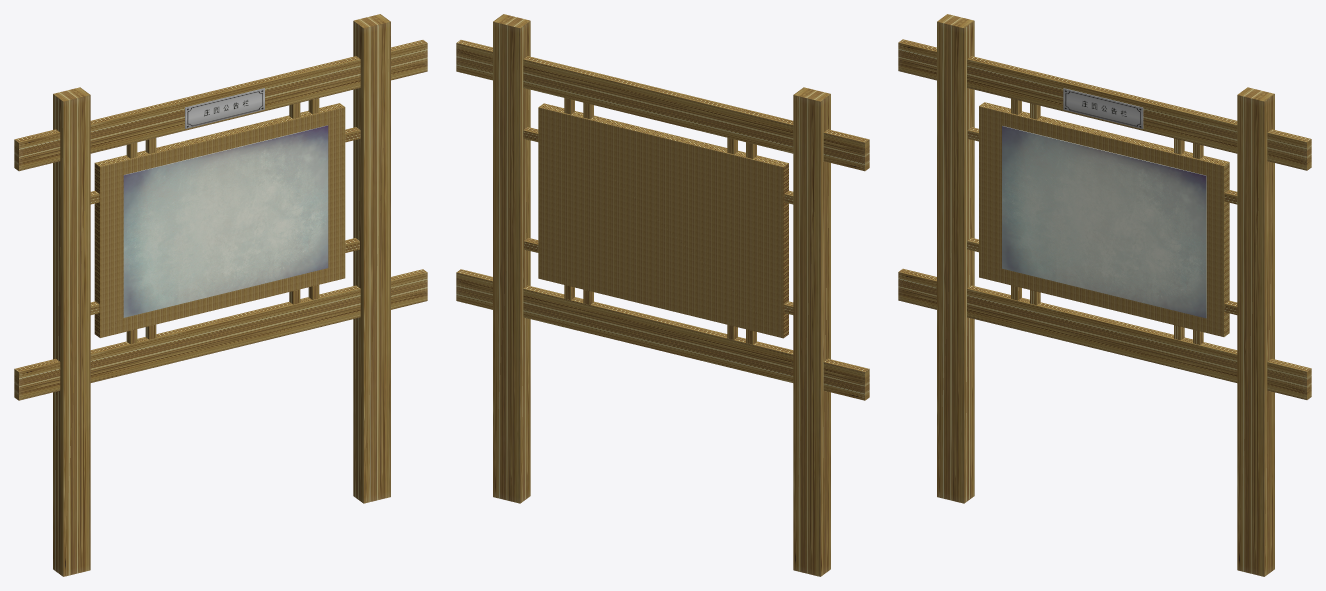
The model's file is tip.FBX.
3 renders of one model, left to right at view 1: azimuth 30°, elevation 25°; view 2: azimuth 150°, elevation 25°; view 3: azimuth 330°, elevation 25°, orthographic.
Parts seen in each view (by area): view 1: Box015, Box001, Box002, 1banzi, Box014, Box013, 2mingpai; view 2: 1banzi, Box001, Box002, Box013, Box014; view 3: Box015, Box002, Box001, 1banzi, Box014, Box013, 2mingpai.
Boxes of the visible parts, box(x1,y1,x2,y2) form: Box015: box(123, 125, 328, 317); Box001: box(53, 87, 90, 576); Box002: box(353, 14, 390, 503); 1banzi: box(94, 103, 345, 337); Box014: box(14, 269, 427, 400); Box013: box(14, 40, 427, 171); 2mingpai: box(185, 88, 264, 128); 1banzi: box(538, 103, 788, 338); Box001: box(793, 87, 830, 576); Box002: box(493, 14, 530, 503); Box013: box(456, 40, 869, 171); Box014: box(456, 269, 869, 400); Box015: box(1002, 126, 1206, 318); Box002: box(1237, 87, 1274, 576); Box001: box(937, 14, 974, 503); 1banzi: box(979, 102, 1229, 336); Box014: box(898, 268, 1311, 399); Box013: box(898, 39, 1311, 170); 2mingpai: box(1063, 88, 1143, 128).
Bounding box in the file's own units: 70.87 × 78.74 × 3.15.
